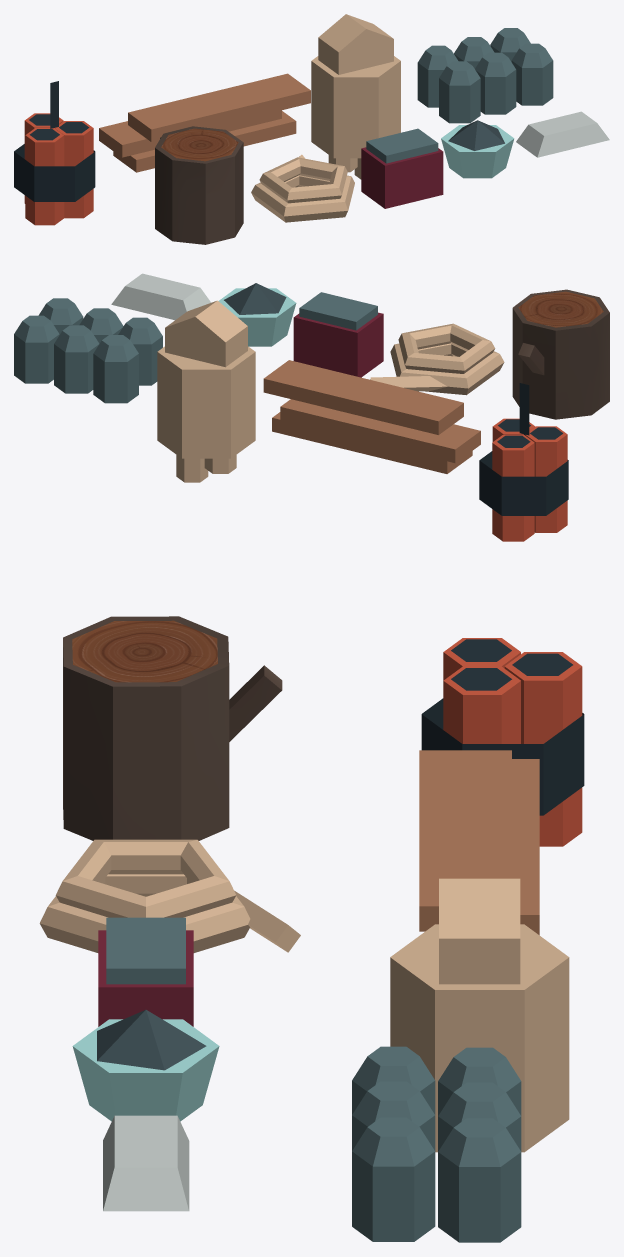
File: ProjIVRecursos.fbx
3 views of the same model, one above another, from view 1: azimuth 30°, elevation 25°; view 2: azimuth 150°, elevation 25°; view 3: azimuth 270°, elevation 25° (orthographic). The views are drawn at different scales.
Visible parts, largest first — view 1: Cylinder, Cylinder.003, Cube.004, Caja, Cylinder.006, Cylinder.010, Torus.001, Cube.001, Torus, Cylinder.007, Cylinder.016, Cylinder.014 (+12 smaller); view 2: Cylinder, Cylinder.003, Cube.004, Cube.003, Caja, Cylinder.006, Cylinder.010, Torus.001, Cube.001, Cylinder.012, Cylinder.009, Cube.002 (+16 smaller); view 3: Cylinder, Cylinder.003, Cube.004, Torus.001, Cylinder.013, Cylinder.014, Cylinder.006, Cube.001, Cylinder.002, Cylinder.009, Torus, Cylinder.008 (+12 smaller).
Boxes of the visible parts, <box> form: Cylinder: <box>155,126,243,244</box>; Cylinder.003: <box>311,56,400,158</box>; Cube.004: <box>128,73,310,141</box>; Caja: <box>361,147,443,208</box>; Cylinder.006: <box>318,14,393,74</box>; Cylinder.010: <box>14,144,95,201</box>; Torus.001: <box>259,157,347,203</box>; Cube.001: <box>516,111,609,157</box>; Torus: <box>251,175,354,222</box>; Cylinder.007: <box>25,128,64,225</box>; Cylinder.016: <box>439,61,480,123</box>; Cylinder.014: <box>511,43,553,105</box>; Cylinder: <box>512,289,609,419</box>; Cylinder.003: <box>157,346,255,458</box>; Cube.004: <box>263,360,463,434</box>; Cube.003: <box>280,399,480,463</box>; Caja: <box>293,312,383,377</box>; Cylinder.006: <box>165,300,247,367</box>; Cylinder.010: <box>479,451,568,515</box>; Torus.001: <box>398,323,495,373</box>; Cube.001: <box>111,273,210,320</box>; Cylinder.012: <box>93,335,138,403</box>; Cylinder.009: <box>492,435,534,541</box>; Cube.002: <box>272,412,472,473</box>; Cylinder: <box>63,616,229,840</box>; Cylinder.003: <box>390,924,569,1152</box>; Cube.004: <box>419,750,511,931</box>; Torus.001: <box>55,839,236,917</box>; Cylinder.013: <box>438,1118,521,1242</box>; Cylinder.014: <box>352,1117,435,1241</box>; Cylinder.006: <box>439,878,520,984</box>; Cube.001: <box>103,1115,189,1211</box>; Cylinder.002: <box>72,1019,219,1121</box>; Cylinder.009: <box>504,652,582,846</box>; Torus: <box>39,874,250,952</box>; Cylinder.008: <box>443,666,520,743</box>.
Bounding box in the file's own units: 1281 × 608 × 404.
Materials: 3 (3 with a texture image).
